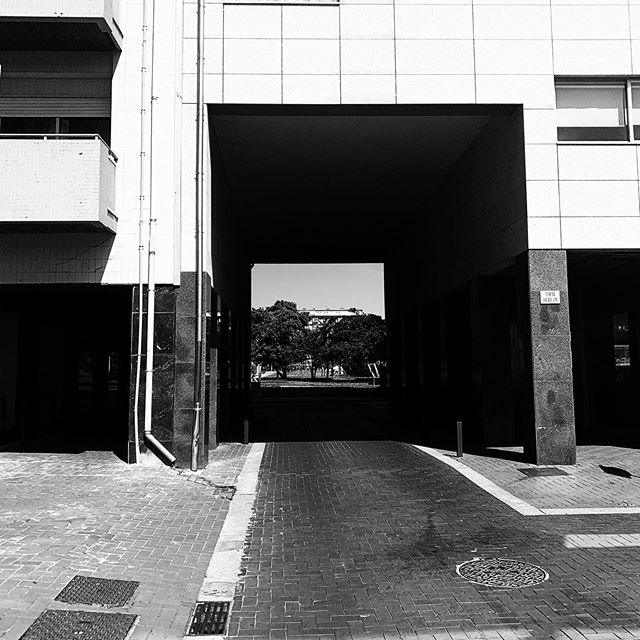building: (1, 1, 640, 451)
collumn: (503, 260, 598, 473), (108, 293, 226, 455)
street: (231, 360, 534, 640)
